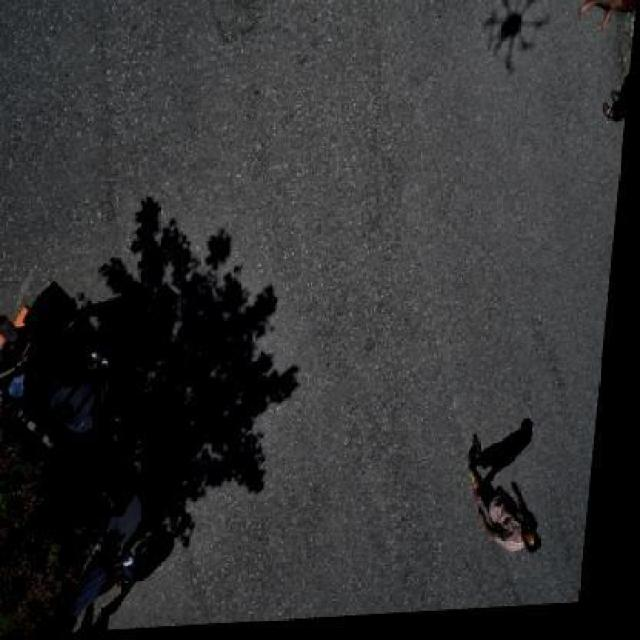Person: (466, 435, 569, 563), (592, 66, 631, 132), (576, 0, 638, 38)
